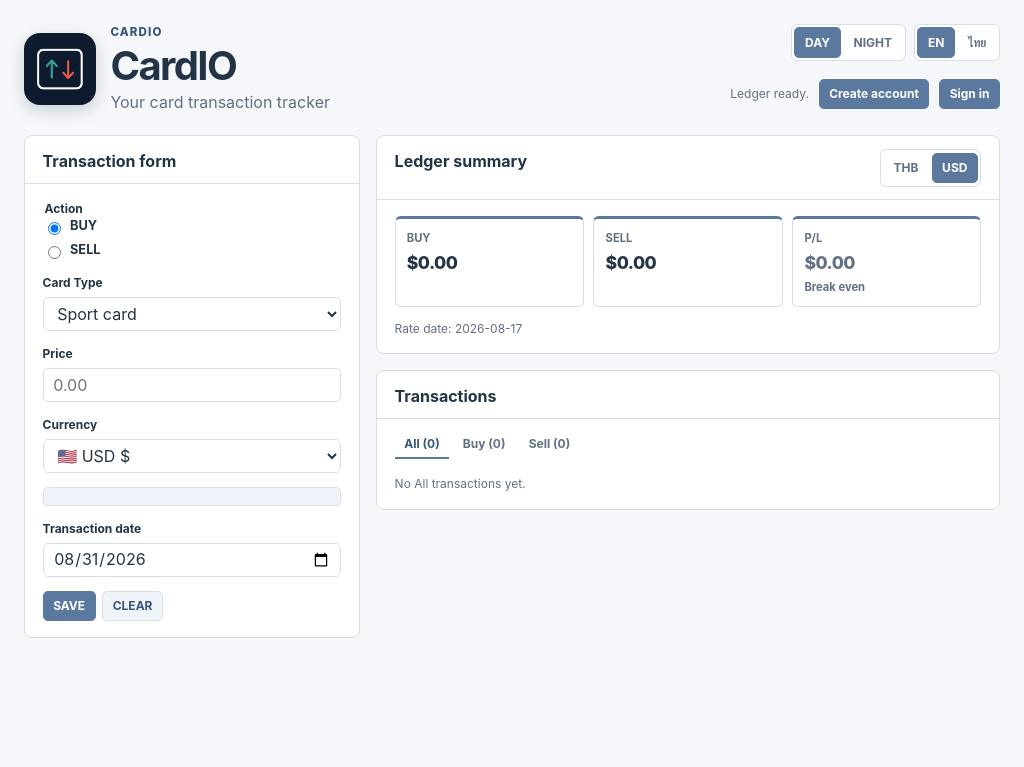
App › signs in and reloads transactions for the registered account
Expected: the heading "CardIO" is shown, [110,41,236,90]
Step 1. Click the button "Sign in" → (970, 94), box [939,79,1000,109]
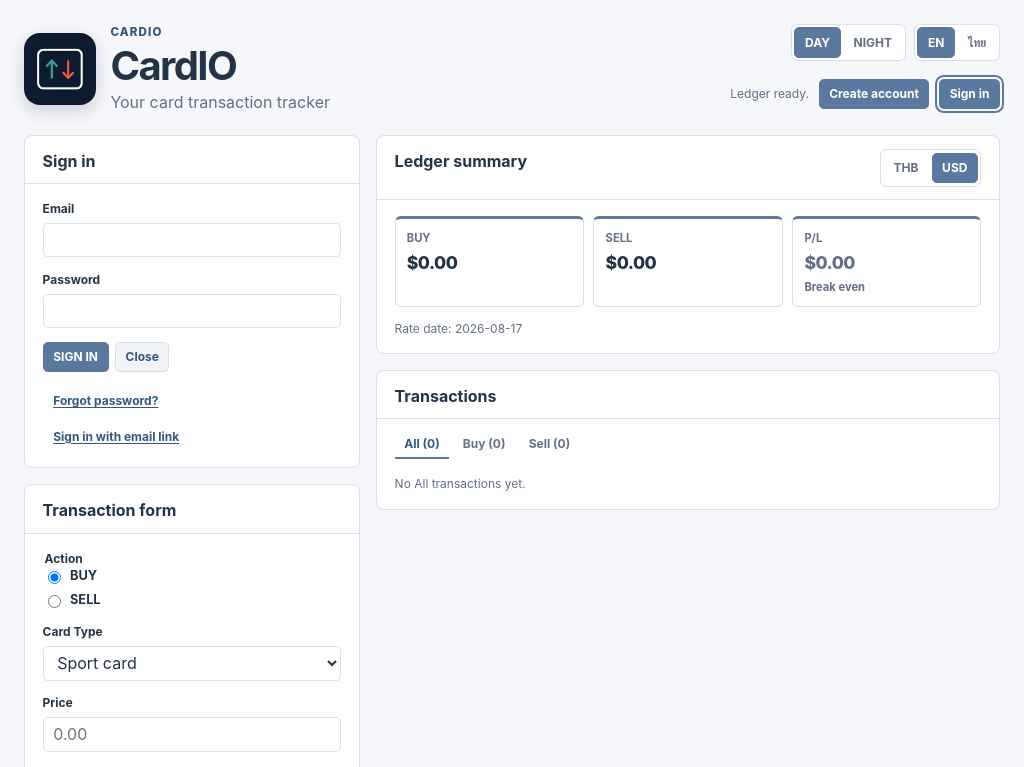
Step 2. Type "collector@example.com" into the field labelled "Email" → (192, 240), box [43,223,341,257]
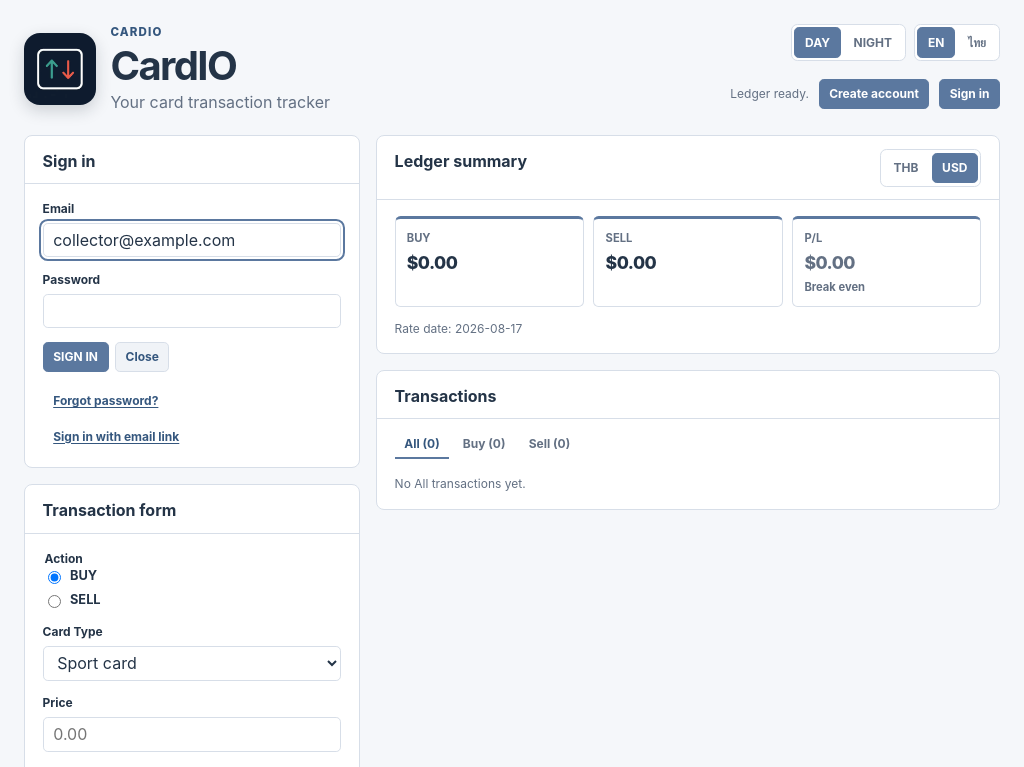
Step 3. Type "new-password-123" into the password field labelled "Password" → (192, 311), box [43,294,341,328]
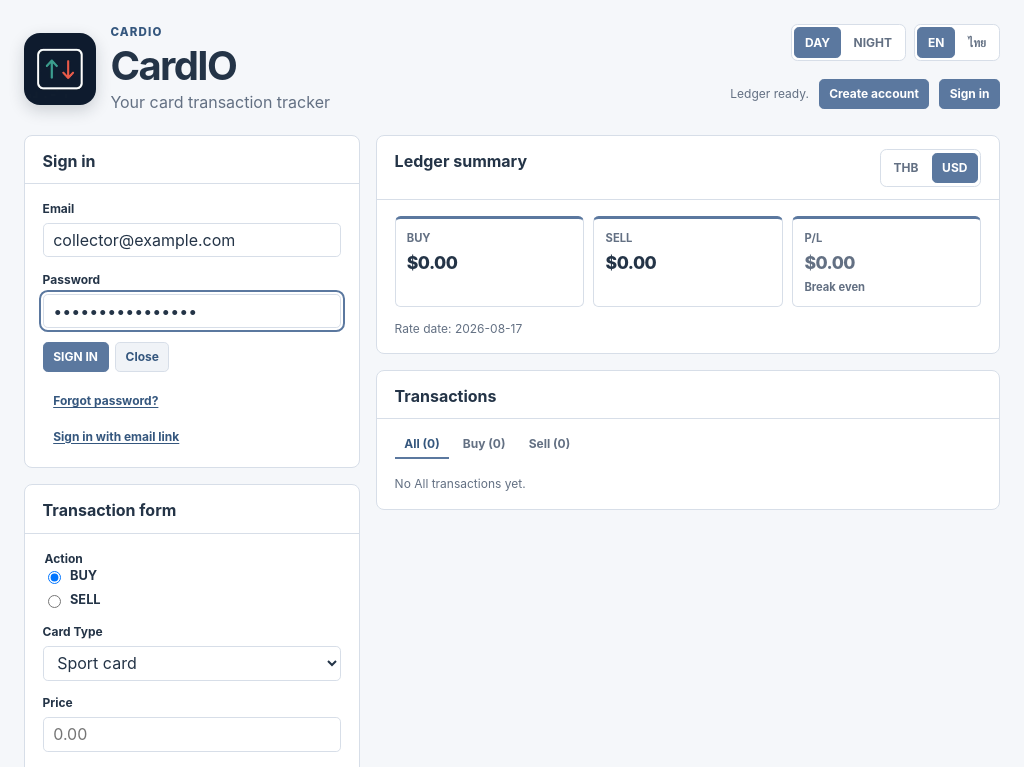
Step 4. Click the button "SIGN IN" → (76, 357), box [43,342,108,372]
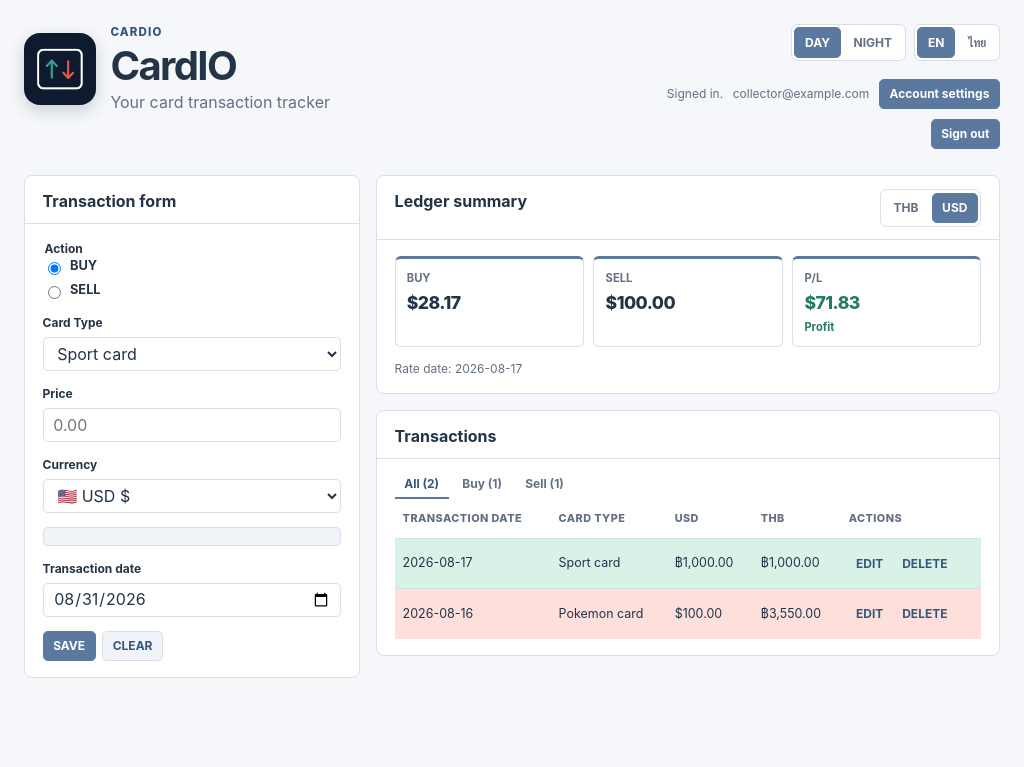
Now the button "Sign out" is shown, box [931,119,1000,149]
Now the row "2026-08-17 Sport card ฿1,000.00 ฿1,000.00 EDIT DELETE" is shown, box [395,538,981,589]
